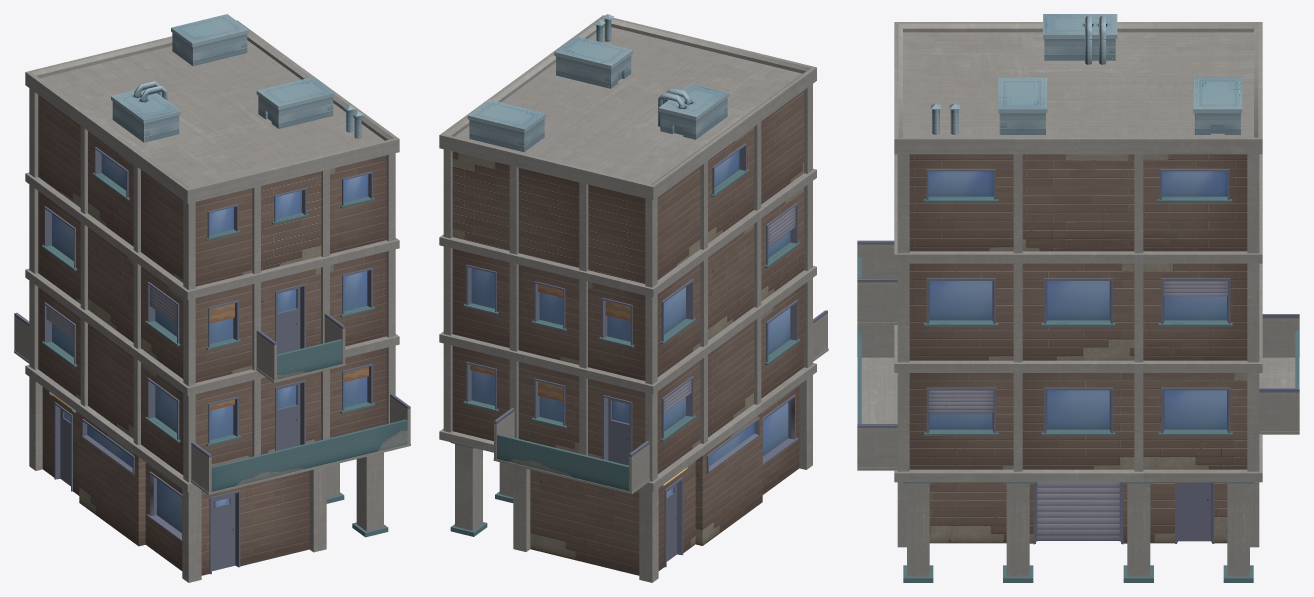
File: Building_07_LOD2.fbx
3 views of the same model, side by side, from view 1: azimuth 30°, elevation 25°; view 2: azimuth 150°, elevation 25°; view 3: azimuth 270°, elevation 25° (orthographic). The views are drawn at different scales.
Parts seen in each view (by area): view 1: polySurface283; view 2: polySurface283; view 3: polySurface283.
Part boxes in pixels (left/top/right/bottom): polySurface283: left=14, top=14, right=410, bottom=582; polySurface283: left=439, top=14, right=828, bottom=582; polySurface283: left=857, top=14, right=1299, bottom=582.
Size of the model in its own units: 692 by 1317 by 1100.
